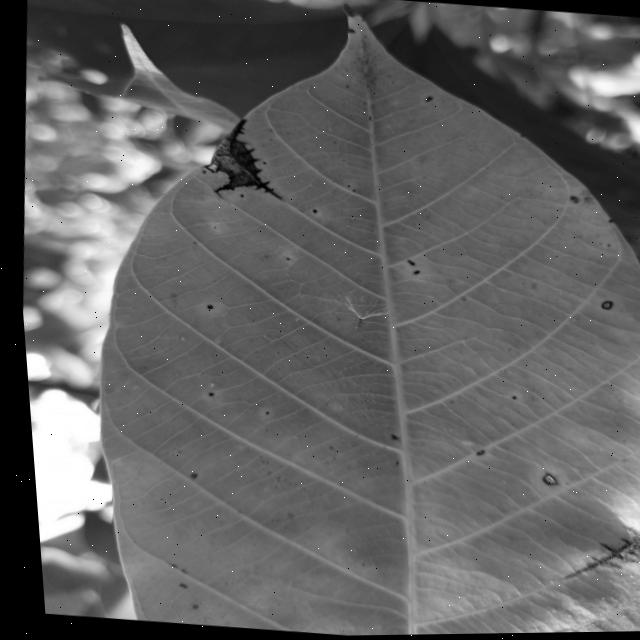Colletotrichum: (532, 474, 550, 487), (594, 302, 609, 312), (468, 451, 477, 458), (202, 304, 208, 310), (308, 209, 314, 214), (506, 397, 510, 399)
Corynespora: (195, 115, 287, 203), (552, 501, 640, 588)
